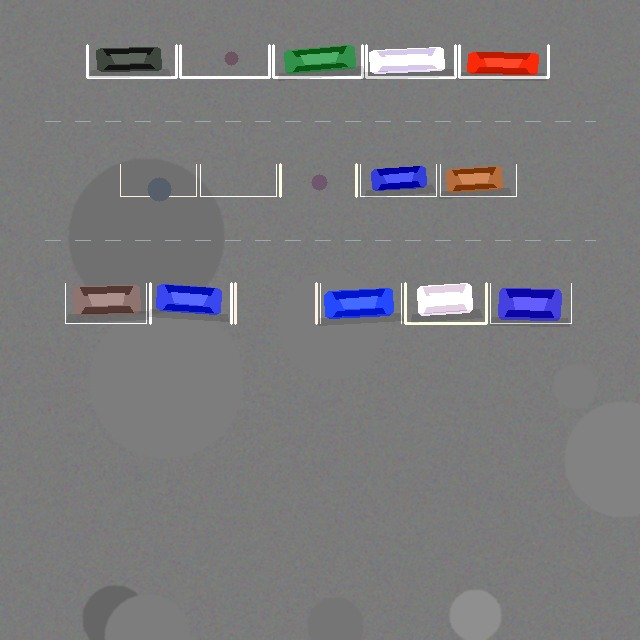space-empty: (235, 283, 316, 323), (180, 45, 269, 77), (120, 164, 196, 196), (200, 164, 276, 196), (280, 164, 356, 196)
space-occupied: (65, 283, 146, 323), (150, 283, 231, 323), (320, 283, 401, 323), (405, 283, 486, 323), (490, 283, 571, 323), (87, 45, 176, 77), (273, 45, 362, 77), (366, 45, 455, 77), (459, 45, 548, 77), (360, 164, 436, 196), (440, 164, 516, 196)
